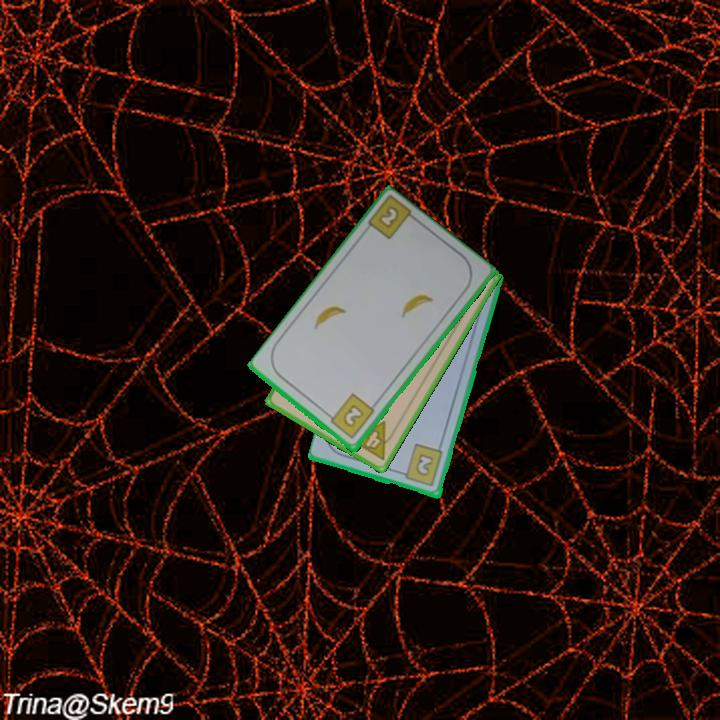2b: (323, 390, 377, 442), (396, 441, 446, 489), (377, 205, 400, 229)
4p: (347, 418, 400, 463)
